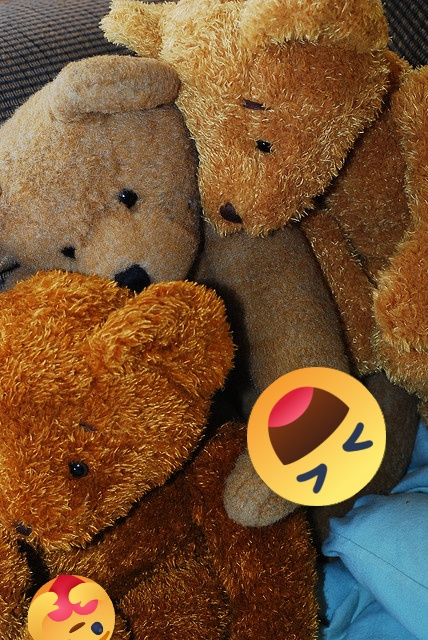care: (28, 575, 115, 640)
haha: (247, 367, 386, 506)
